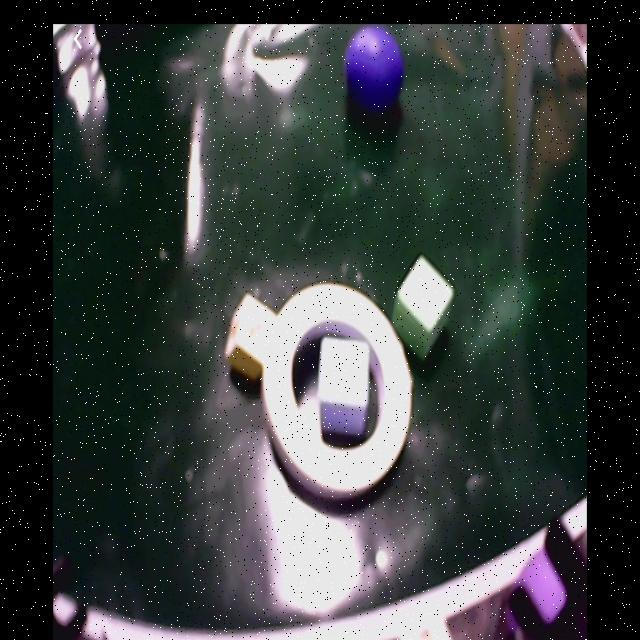ball: (511, 550, 581, 635), (345, 27, 404, 109)
